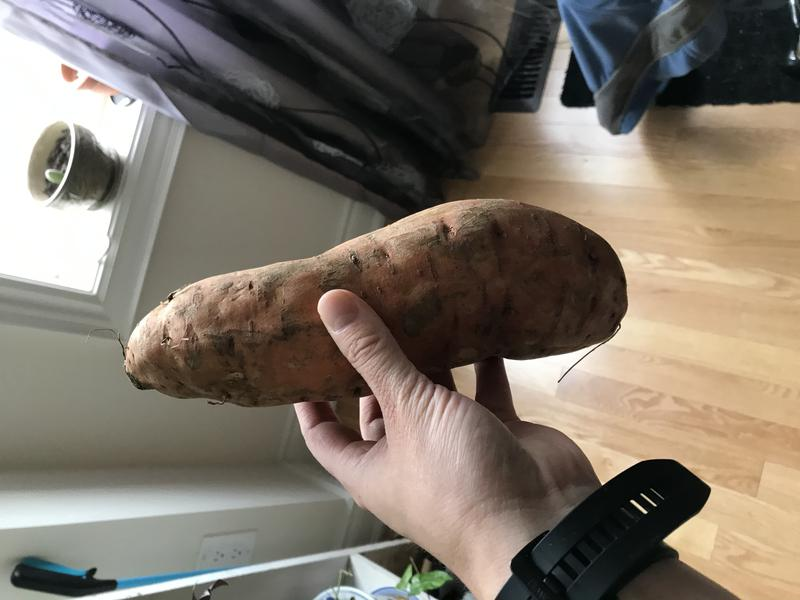sweet_potato: (103, 187, 653, 420)
